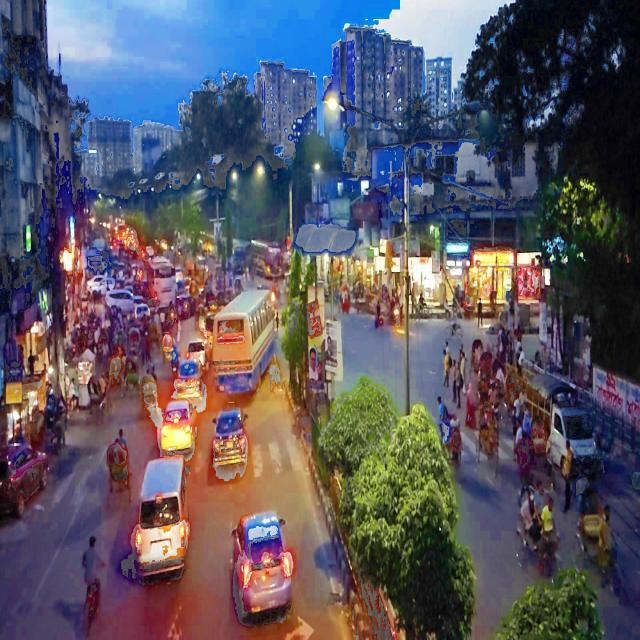maroon: (0, 440, 51, 518)
silver: (234, 513, 294, 621)
white: (137, 453, 189, 581), (161, 398, 195, 455)
